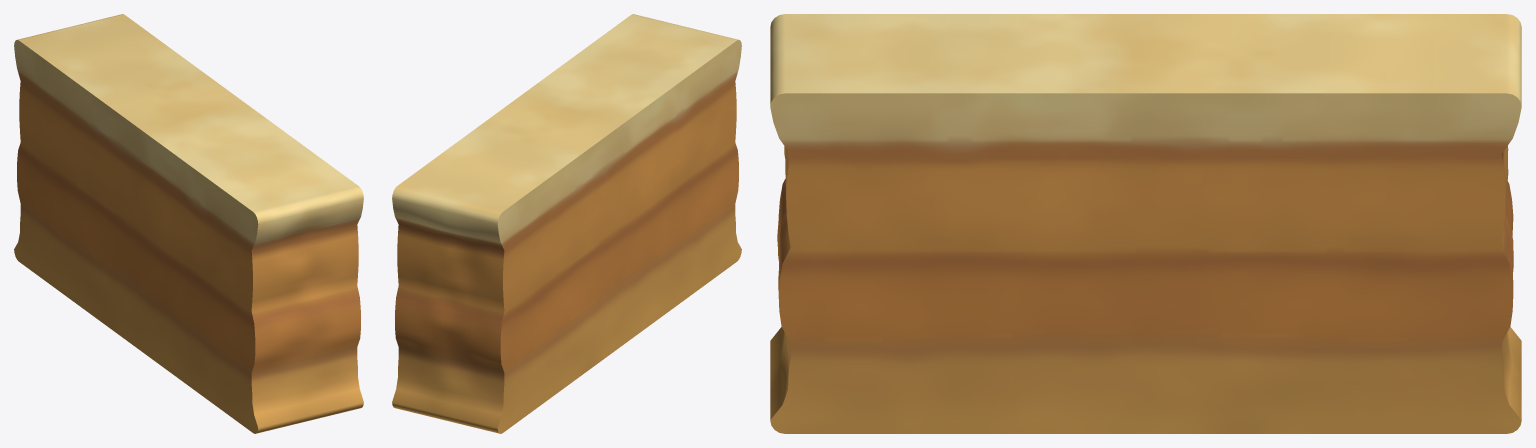
Rendered from SD_G02_Ground_Half.fbx.
3 renders of one model, left to right at view 1: azimuth 30°, elevation 25°; view 2: azimuth 150°, elevation 25°; view 3: azimuth 270°, elevation 25°, orthographic. The views are drawn at different scales.
Parts seen in each view (by area): view 1: SD_G02_Ground_Half; view 2: SD_G02_Ground_Half; view 3: SD_G02_Ground_Half.
Part boxes in pixels (x1=…): SD_G02_Ground_Half: x1=14, y1=14, x2=363, y2=433; SD_G02_Ground_Half: x1=392, y1=14, x2=741, y2=433; SD_G02_Ground_Half: x1=770, y1=14, x2=1521, y2=433.
Size of the model in its own units: 1 by 2 by 4.
